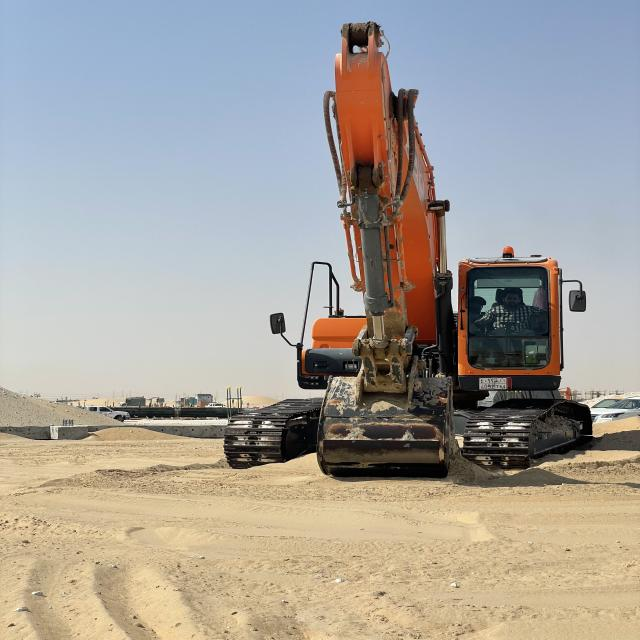excavator: (220, 17, 593, 479)
